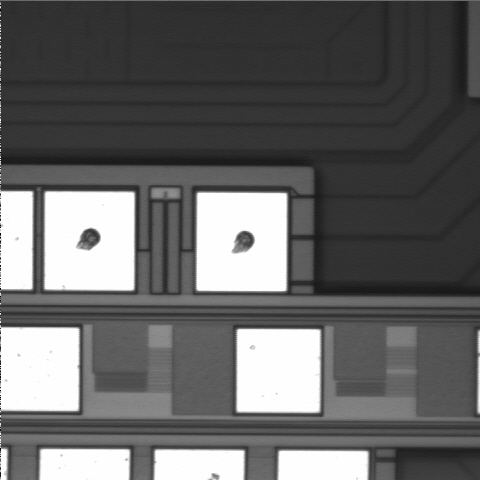pad: (45, 191, 135, 290), (197, 193, 287, 291), (237, 329, 320, 413)
